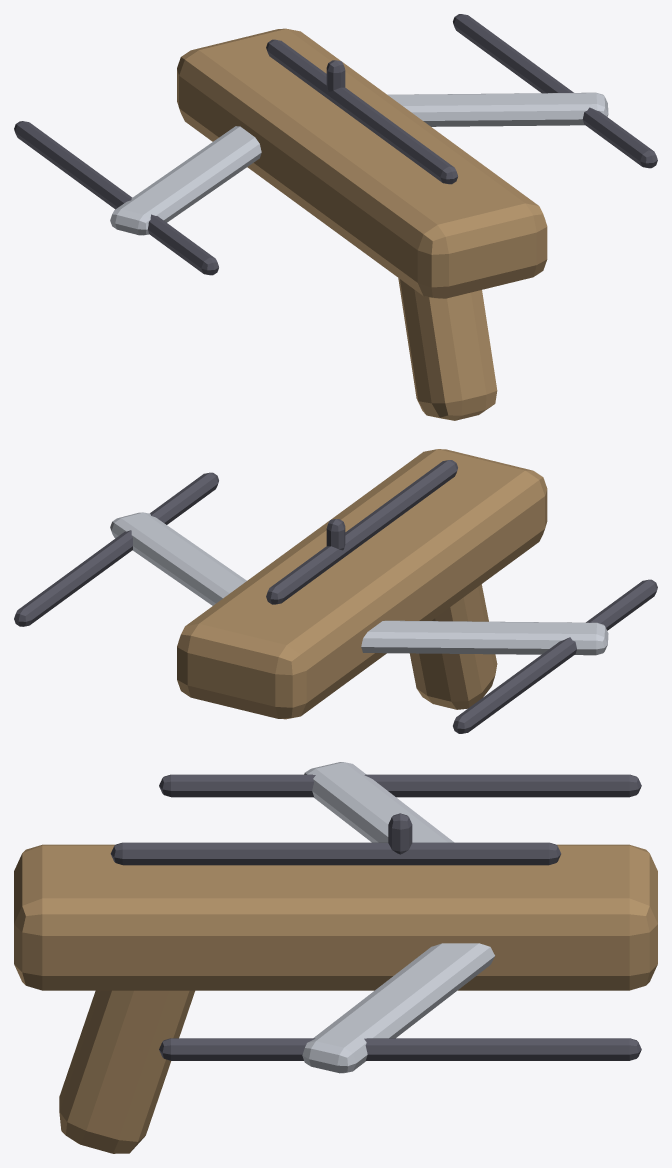
The model's file is bowman_bonus.glb.
The picture shows the model from 3 angles, top to bottom: view 1: azimuth 30°, elevation 25°; view 2: azimuth 150°, elevation 25°; view 3: azimuth 270°, elevation 25°; orthographic projection. The views are drawn at different scales.
Parts seen in each view (by area): view 1: body, grip, limb_r, limb_l, rail, string_l, string_r; view 2: body, limb_l, grip, limb_r, rail, string_l, string_r, sight_front; view 3: body, grip, rail, string_l, limb_r, string_r, limb_l, sight_front.
Boxes of the visible parts, x1,y1,x2,y2 form: body: (177, 28, 547, 298); grip: (398, 278, 497, 420); limb_r: (387, 92, 608, 126); limb_l: (110, 126, 261, 235); rail: (266, 39, 457, 184); string_l: (14, 121, 218, 275); string_r: (453, 14, 657, 168); body: (177, 449, 547, 719); limb_l: (361, 620, 608, 655); grip: (409, 584, 497, 709); limb_r: (110, 512, 246, 605); rail: (266, 460, 457, 604); string_l: (453, 579, 657, 733); string_r: (14, 472, 218, 626); sight_front: (326, 519, 345, 550); body: (14, 844, 657, 990); grip: (59, 990, 194, 1153); rail: (110, 842, 561, 865); string_l: (159, 774, 641, 797); limb_r: (302, 943, 494, 1073); string_r: (159, 1038, 641, 1060); limb_l: (304, 762, 454, 842); sight_front: (388, 813, 412, 854).
Bounding box in the file's own units: 0.3492 × 0.1818 × 0.32.
